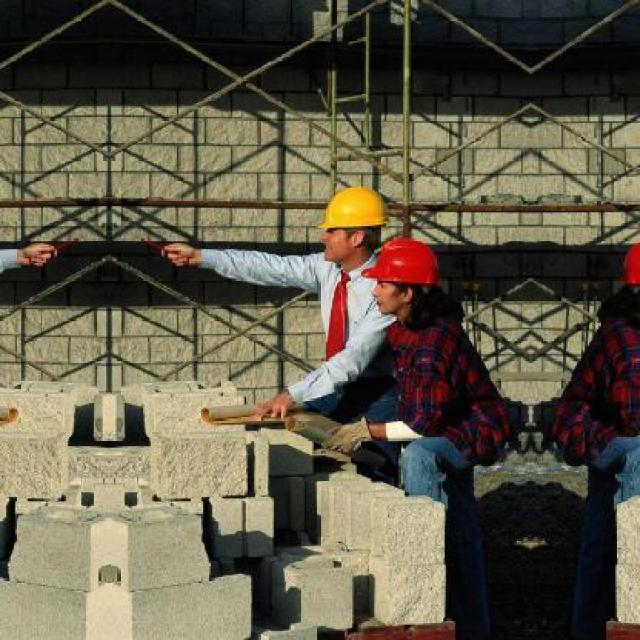Helmet: (363, 238, 446, 331), (306, 185, 385, 263), (612, 238, 638, 332)
